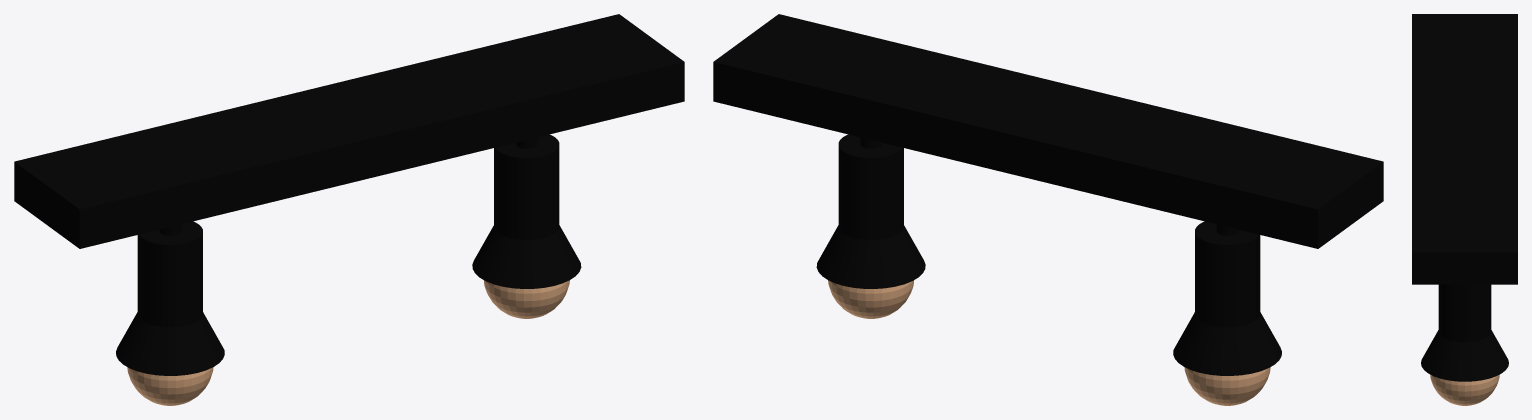
The model's file is KitchenLight.fbx.
3 views of the same model, side by side, from view 1: azimuth 30°, elevation 25°; view 2: azimuth 150°, elevation 25°; view 3: azimuth 270°, elevation 25° (orthographic). The views are drawn at different scales.
Parts seen in each view (by area): view 1: Cube, Cylinder.003, Cylinder.002, Cone, Cone.001, Sphere.001, Sphere; view 2: Cube, Cylinder.003, Cylinder.002, Cone, Cone.001, Sphere.001, Sphere; view 3: Cube, Cone.001, Cylinder.003, Sphere.
Part boxes in pixels (bbox=[...]): Cube: bbox=[14, 14, 684, 248]; Cylinder.003: bbox=[494, 134, 559, 240]; Cylinder.002: bbox=[137, 221, 202, 327]; Cone: bbox=[116, 312, 224, 375]; Cone.001: bbox=[472, 225, 581, 288]; Sphere.001: bbox=[127, 367, 213, 405]; Sphere: bbox=[483, 280, 569, 318]; Cube: bbox=[713, 14, 1383, 248]; Cylinder.003: bbox=[838, 134, 903, 240]; Cylinder.002: bbox=[1195, 221, 1260, 327]; Cone: bbox=[1173, 312, 1281, 375]; Cone.001: bbox=[816, 225, 925, 288]; Sphere.001: bbox=[1184, 367, 1270, 405]; Sphere: bbox=[828, 280, 914, 318]; Cube: bbox=[1412, 14, 1517, 284]; Cone.001: bbox=[1421, 330, 1508, 381]; Cylinder.003: bbox=[1438, 284, 1491, 342]; Sphere: bbox=[1430, 374, 1499, 405].
Size of the model in its own units: 32 by 12.46 by 6.
